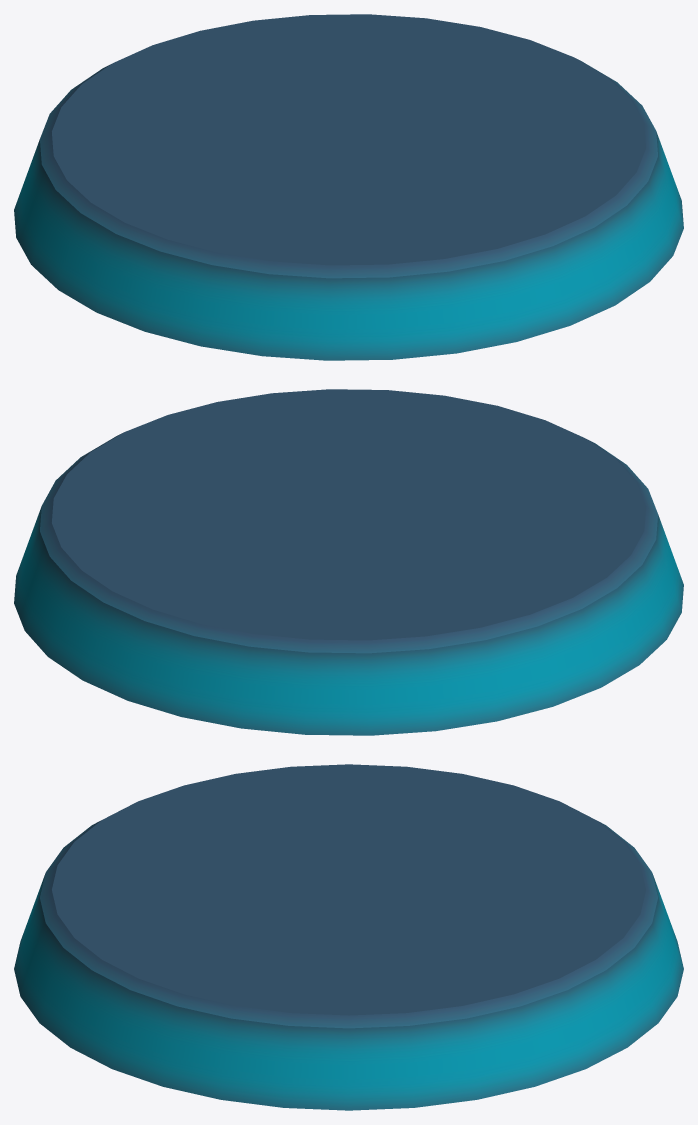
File: platform.fbx
3 renders of one model, top to bottom at view 1: azimuth 30°, elevation 25°; view 2: azimuth 150°, elevation 25°; view 3: azimuth 270°, elevation 25°, orthographic.
Parts seen in each view (by area): view 1: platform; view 2: platform; view 3: platform.
Boxes of the visible parts, box(x1,y1,x2,y2) form: platform: box(14, 14, 683, 360); platform: box(14, 389, 683, 735); platform: box(14, 764, 683, 1110).
Size of the model in its own units: 1.53 by 0.1993 by 1.53.
